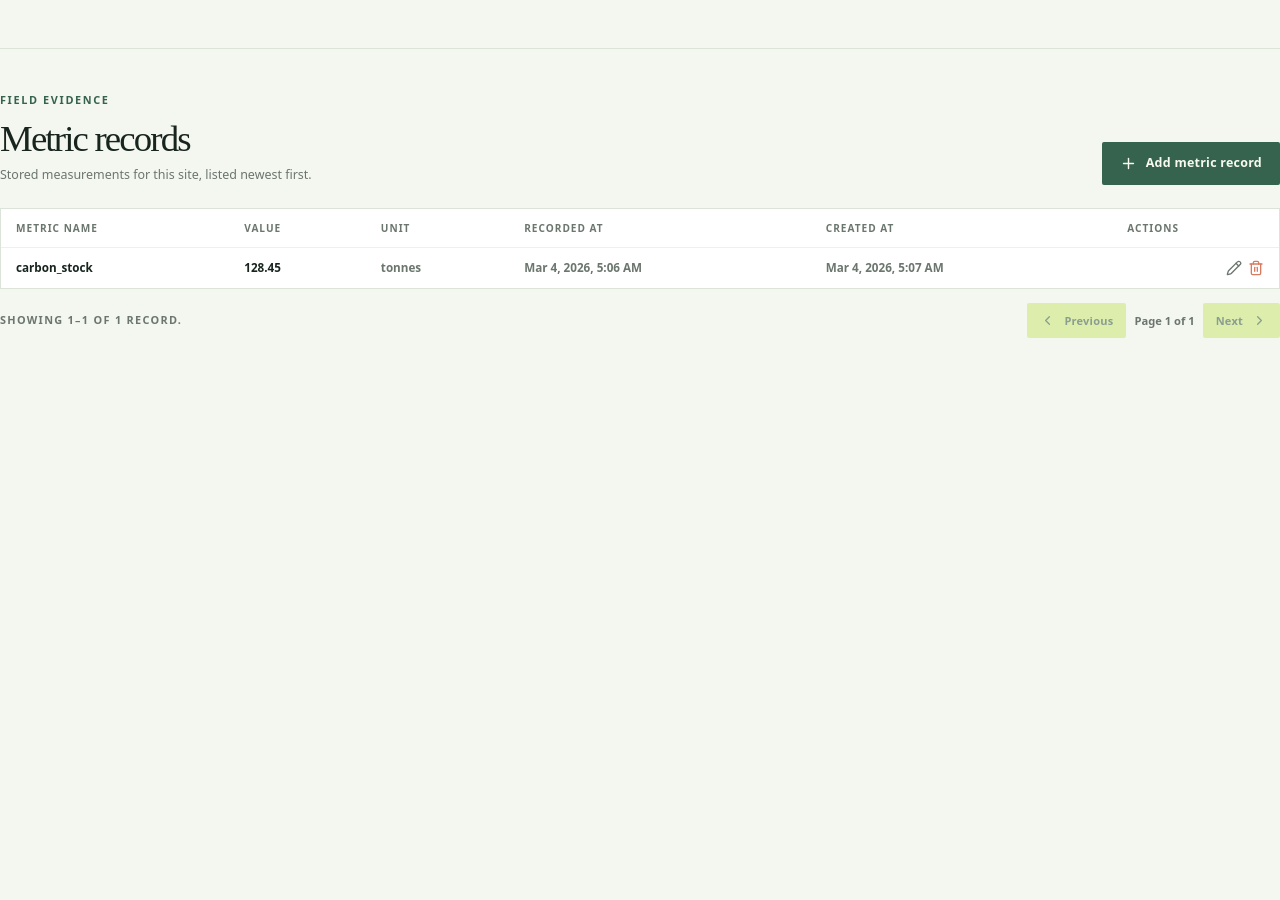
Test case: SiteMetricRecords actions › opens the metric form from the add action
Expected: the text "carbon_stock" is shown, [16, 260, 93, 275]
Click the button "Add metric record".
click(1191, 163)  # box [1102, 142, 1279, 184]
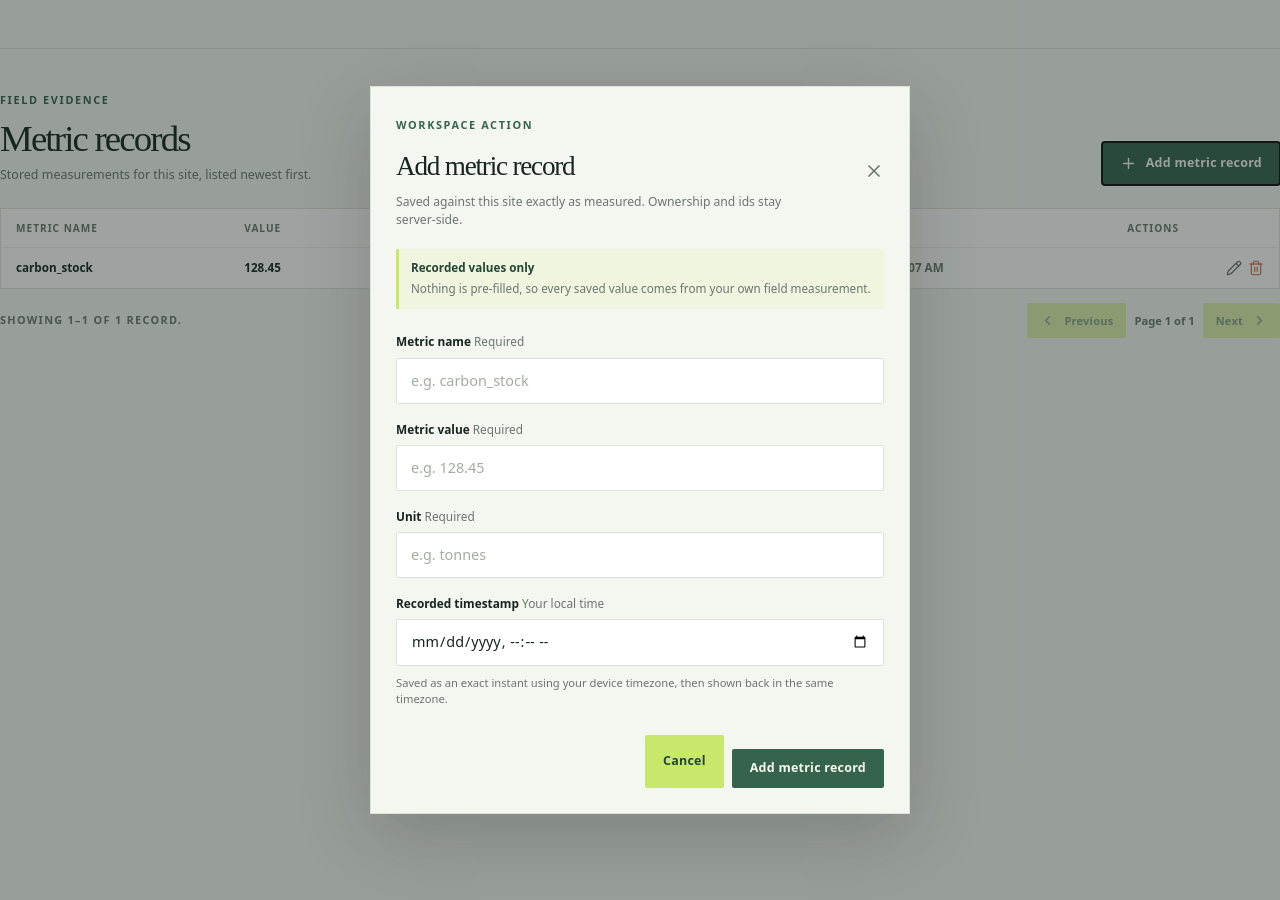
Expected: the heading "Add metric record" is shown, [396, 152, 574, 182]
Expected: the field labelled "Metric name Required" is empty, [396, 358, 884, 404]
